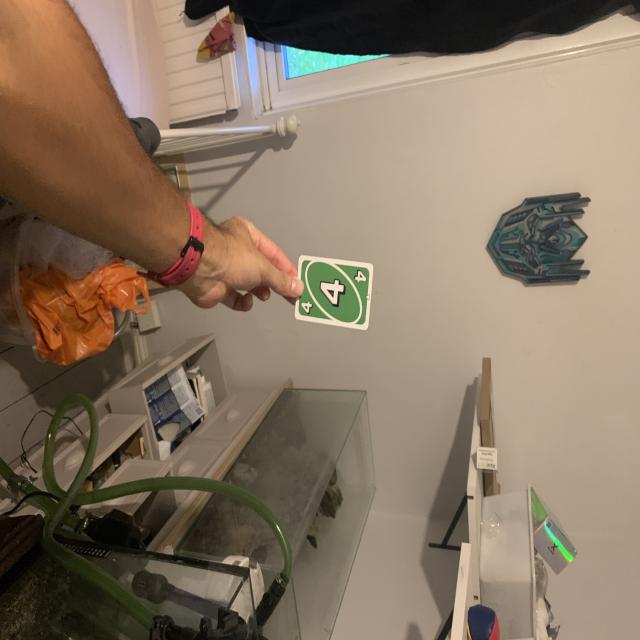lgreen-4: (300, 299, 316, 317)
